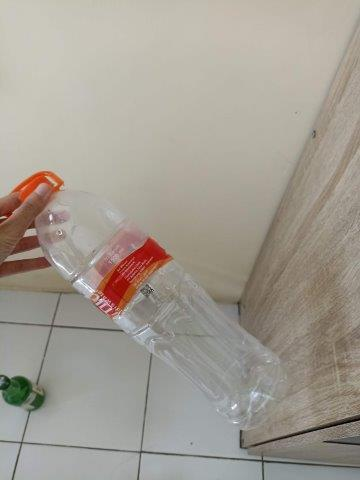botolplastik: (17, 175, 285, 428)
